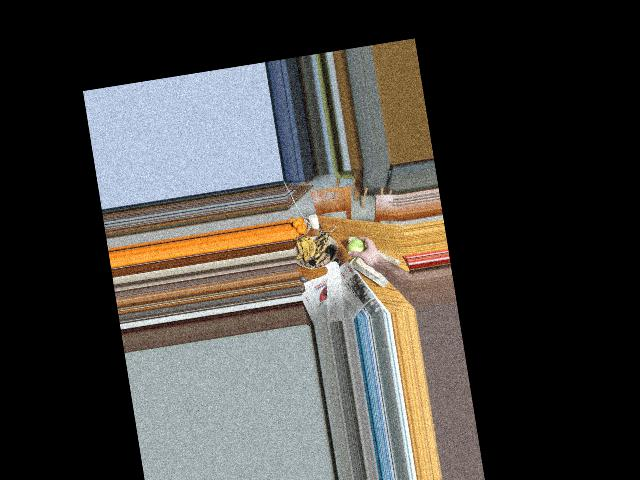apple: (345, 236, 367, 259)
